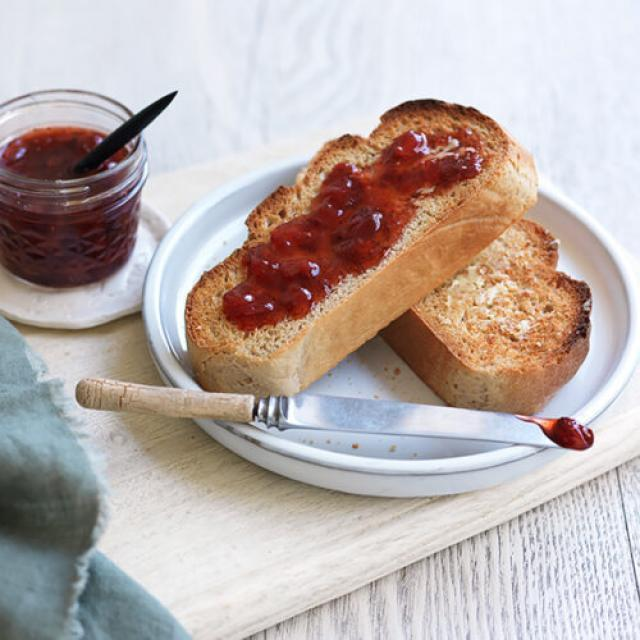Spread: (226, 129, 492, 334)
